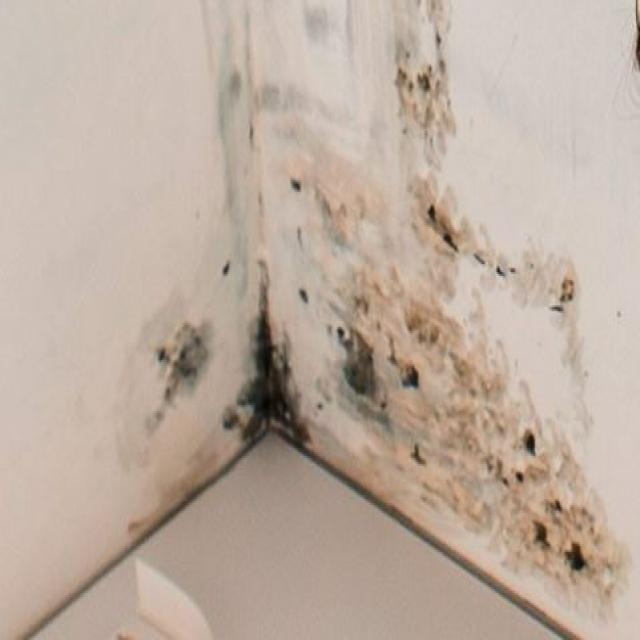wall_mold: (333, 0, 623, 606), (227, 259, 311, 445), (147, 296, 202, 419)
